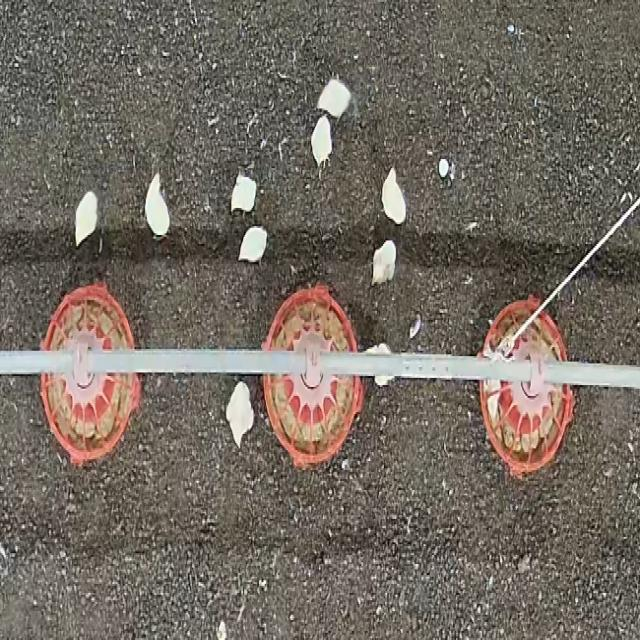broiler: (225, 381, 253, 447), (145, 174, 169, 235), (381, 168, 405, 222), (317, 80, 351, 118), (76, 192, 96, 244), (373, 240, 396, 284), (311, 116, 331, 166), (238, 226, 267, 259), (231, 174, 256, 210), (365, 344, 390, 353), (375, 374, 393, 385)
pipe: (313, 349, 537, 380), (85, 347, 313, 374), (540, 362, 639, 387), (0, 347, 75, 378)
rice: (262, 367, 364, 466), (480, 378, 574, 475), (40, 374, 141, 463), (40, 282, 134, 349), (262, 284, 356, 351), (479, 295, 540, 354), (510, 313, 566, 360)
